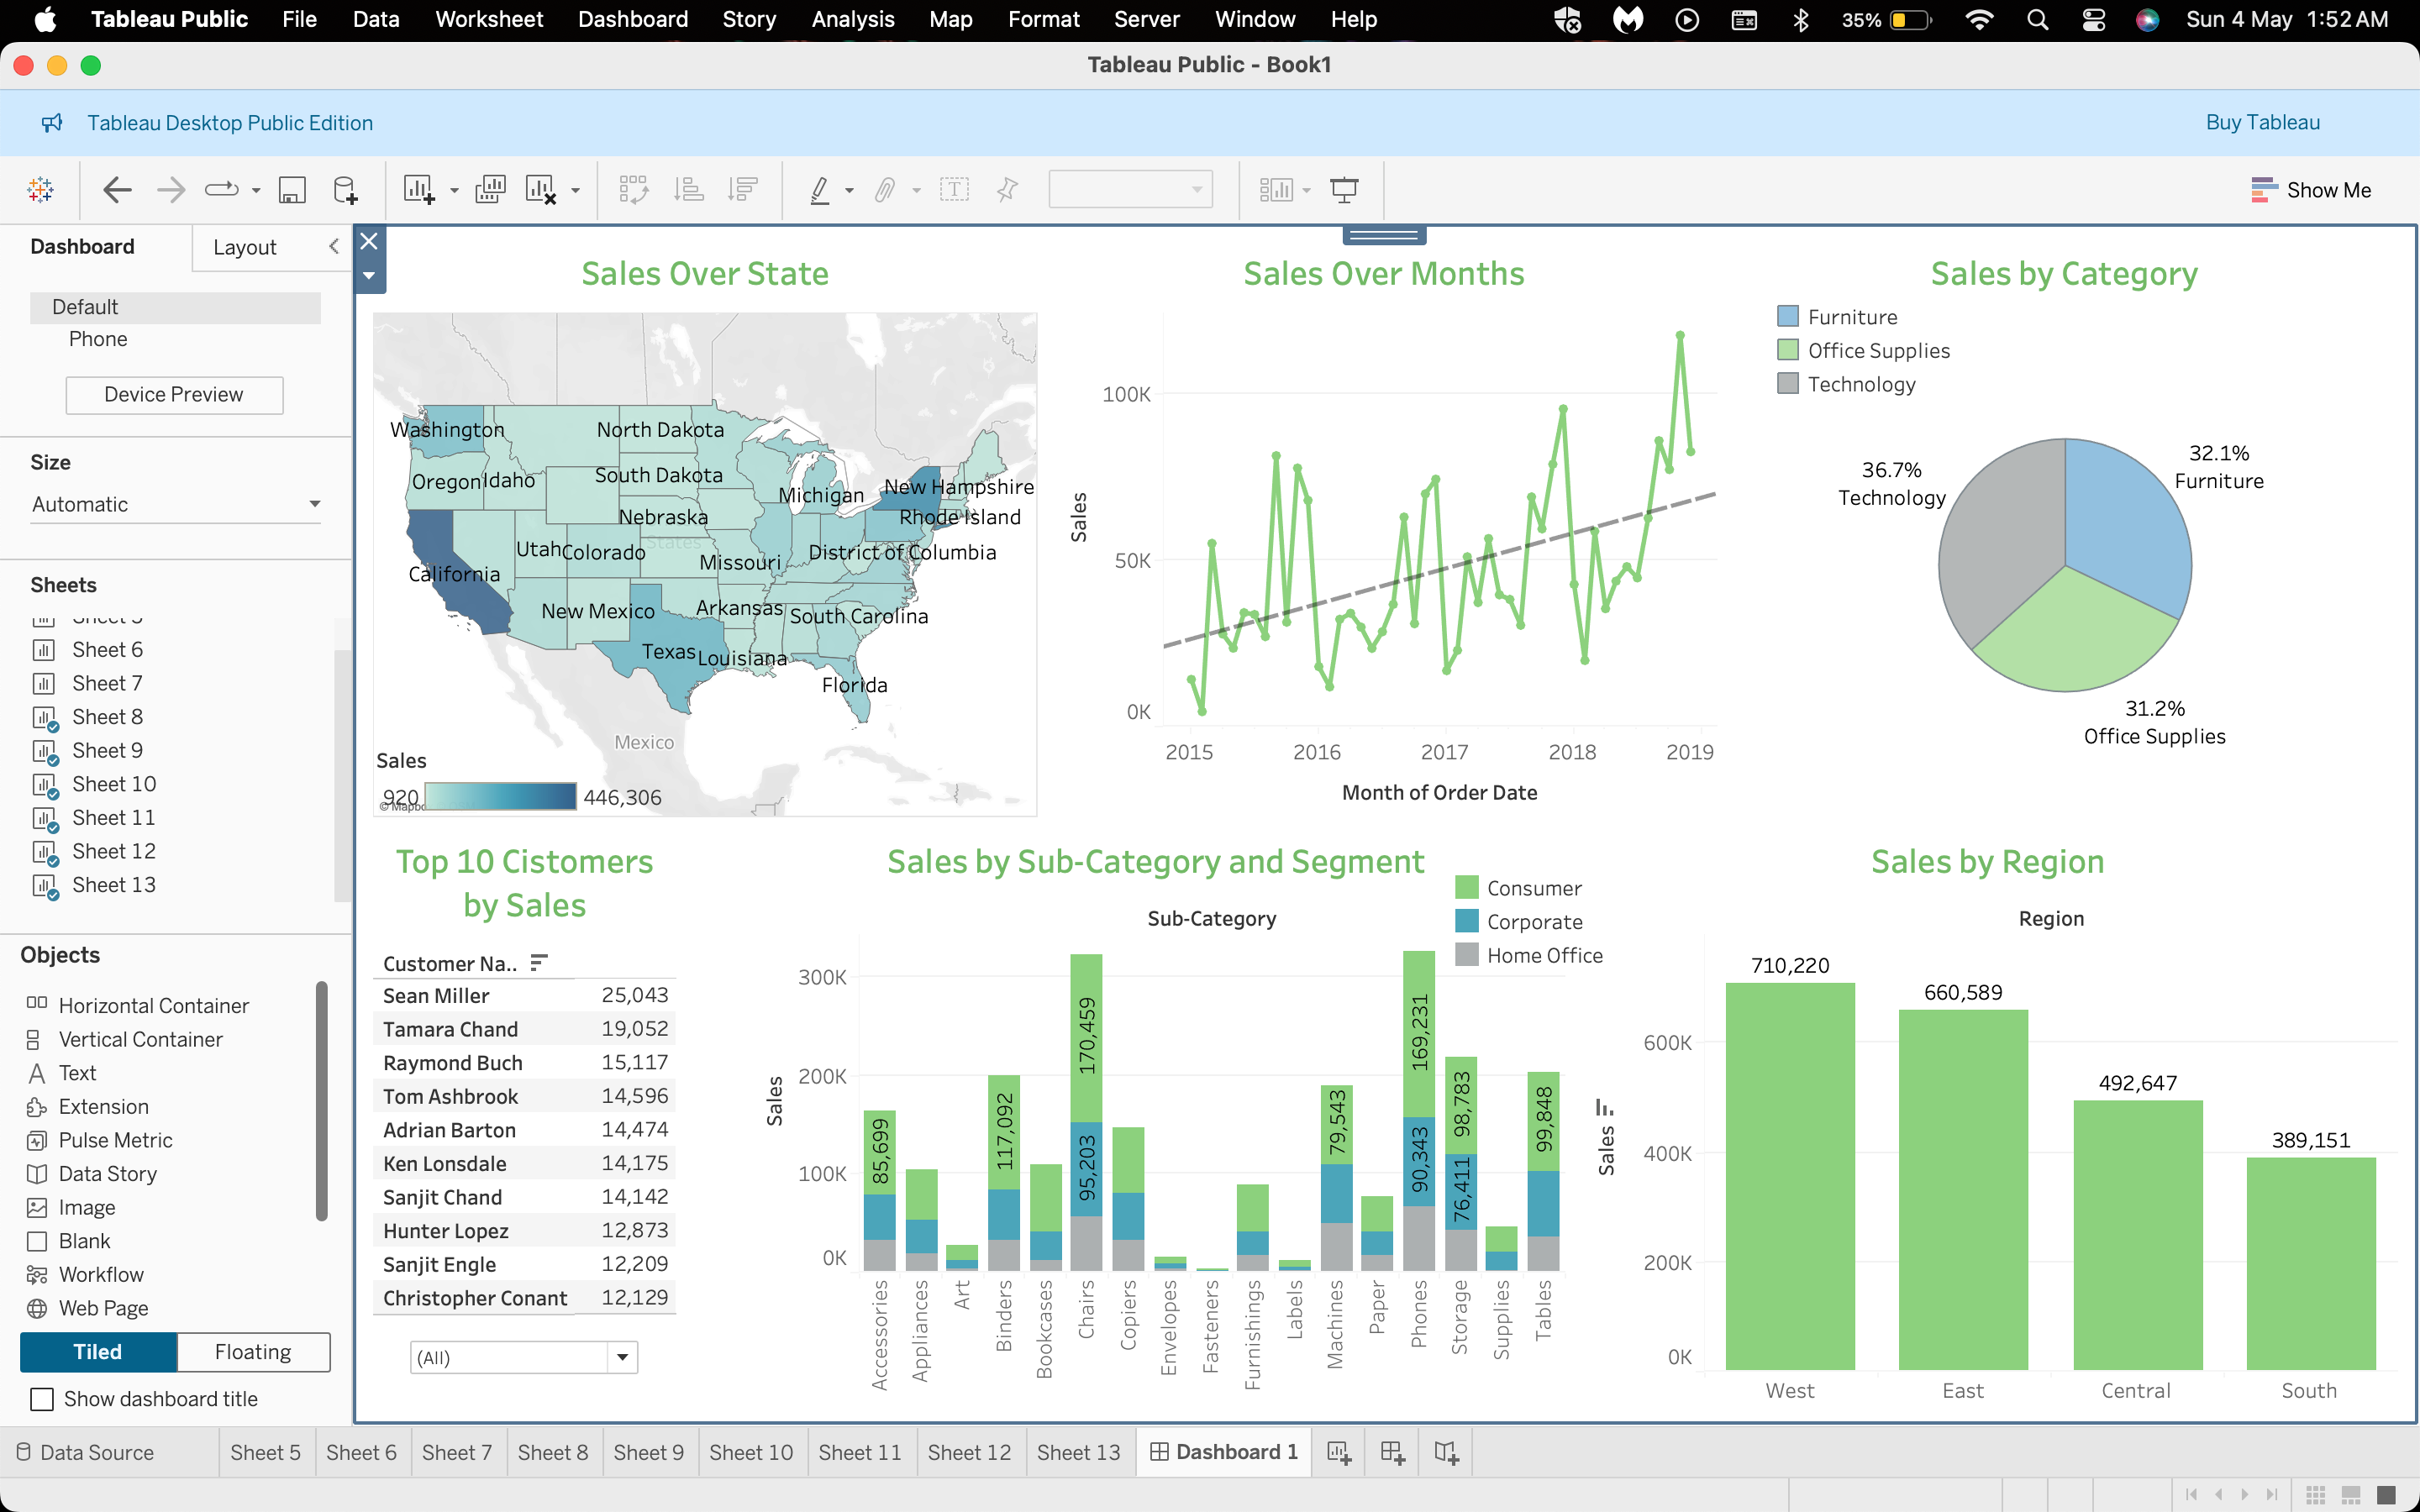

This screenshot's page, from the dashboard's own definition file:
{"tool":"tableau","page":{"name":"Dashboard 1","canvas":[1000,1000],"units":"permille","ordinal":0},"visuals":[{"type":"worksheet","title":"Sheet 12","mark":"Automatic","box":[6.5,11.2,329,488.8]},{"type":"worksheet","title":"Sheet 8","mark":"Automatic","rows":["Sales"],"cols":["Order Date"],"box":[335.5,11.2,329,488.8]},{"type":"worksheet","title":"Sheet 10","mark":"Pie","box":[664.5,11.2,329,488.8]},{"type":"legend","title":"Sheet 10","param":"[federated.09eqxzq13zzjmz11uzw9u1clr5d1].[none:Category:nk]","box":[686.7,62.9,102.5,86.7]},{"type":"legend","title":"Sheet 12","param":"[federated.09eqxzq13zzjmz11uzw9u1clr5d1].[sum:Sales:qk]","box":[11.4,435,142.4,57.3]},{"type":"worksheet","title":"Sheet 11","mark":"Automatic","rows":["Customer Name"],"box":[6.5,500,181.8,488.8]},{"type":"worksheet","title":"Sheet 13","mark":"Automatic","rows":["Sales"],"cols":["Sub-Category"],"box":[188.3,500,402.6,488.8]},{"type":"worksheet","title":"Sheet 9","mark":"Automatic","rows":["Sales"],"cols":["Region"],"box":[590.9,500,402.6,488.8]},{"type":"legend","title":"Sheet 13","param":"[federated.09eqxzq13zzjmz11uzw9u1clr5d1].[none:Segment:nk]","box":[531.3,538.5,93.6,85.3]},{"type":"filter","title":"Sheet 11","param":"[federated.09eqxzq13zzjmz11uzw9u1clr5d1].[none:Customer Name:nk]","box":[25.2,925.9,115.5,39.2]}]}

Visuals, with their boxes on the dashboard's canvas, which has no fixed pixel size, in thousandths of its width and height (x1, y1, x2, y2). These are canvas units, not pixel positions in the 2420x1512 screenshot, which may show the page scaled, cropped or inside an application window:
"Sheet 12" worksheet: x1=6, y1=11, x2=336, y2=500
"Sheet 8" worksheet: x1=336, y1=11, x2=664, y2=500
"Sheet 10" worksheet (Pie marks): x1=664, y1=11, x2=994, y2=500
"Sheet 10" legend: x1=687, y1=63, x2=789, y2=150
"Sheet 12" legend: x1=11, y1=435, x2=154, y2=492
"Sheet 11" worksheet: x1=6, y1=500, x2=188, y2=989
"Sheet 13" worksheet: x1=188, y1=500, x2=591, y2=989
"Sheet 9" worksheet: x1=591, y1=500, x2=994, y2=989
"Sheet 13" legend: x1=531, y1=538, x2=625, y2=624
"Sheet 11" filter: x1=25, y1=926, x2=141, y2=965
